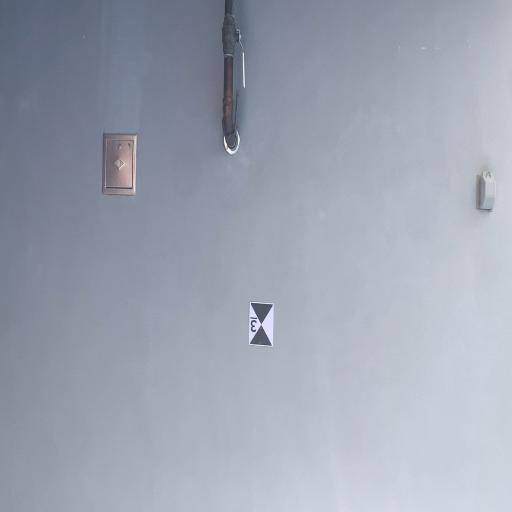target3: (248, 301, 274, 348)
